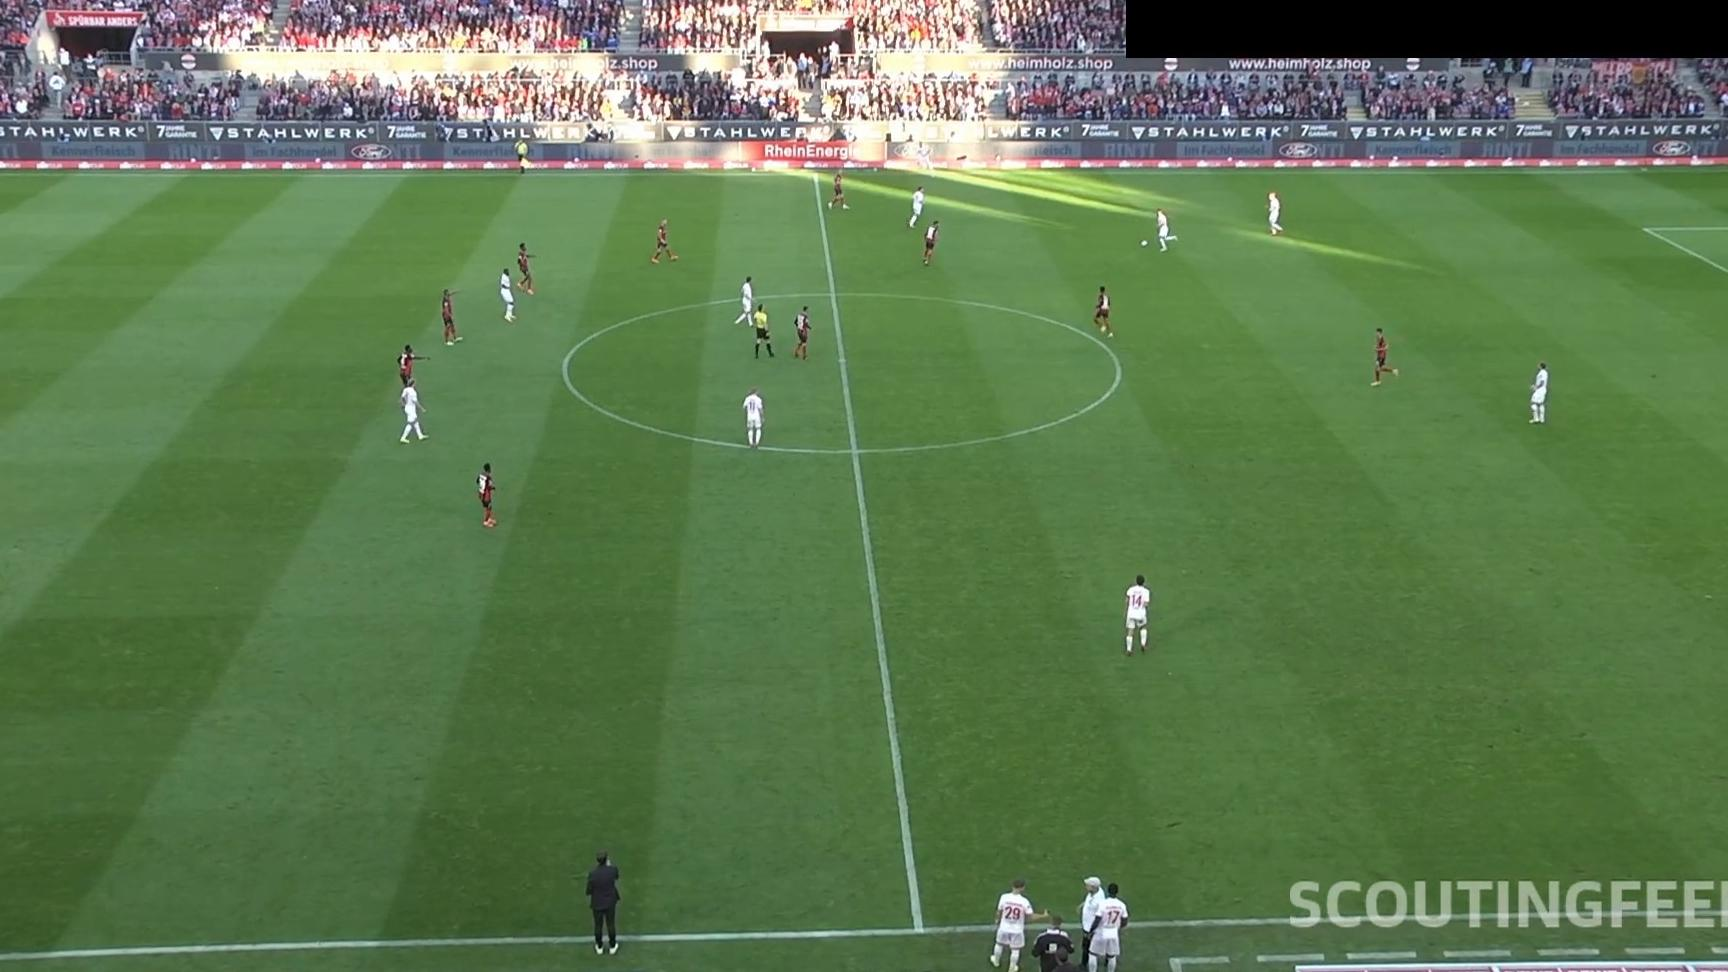ball: (1141, 240, 1148, 247)
